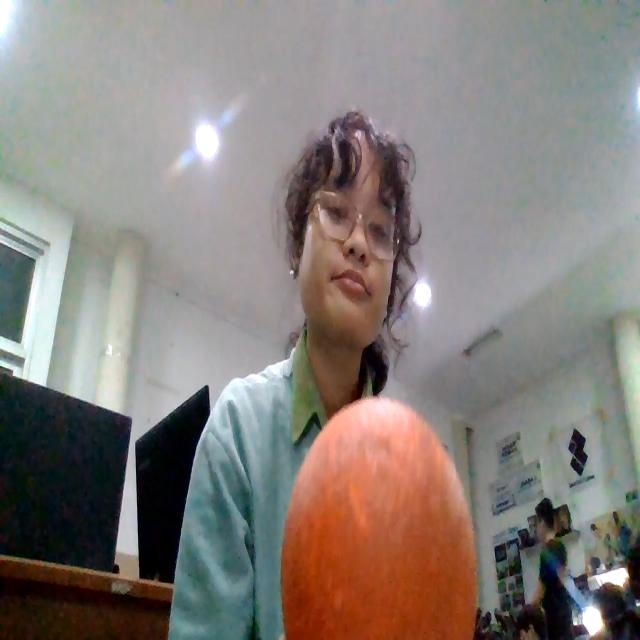ball: (280, 395, 478, 638)
